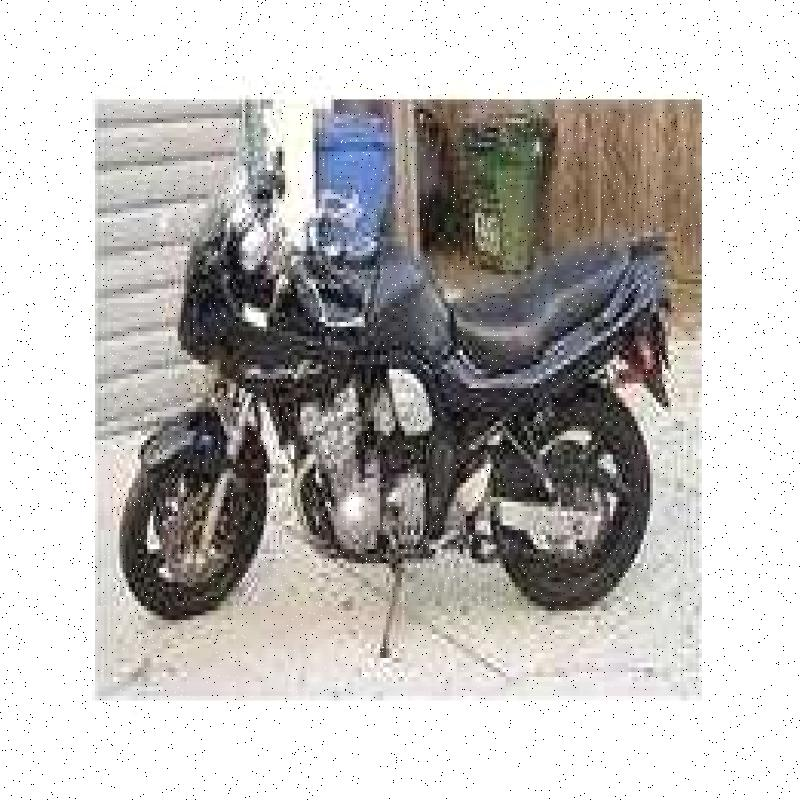bike: (111, 109, 674, 631)
